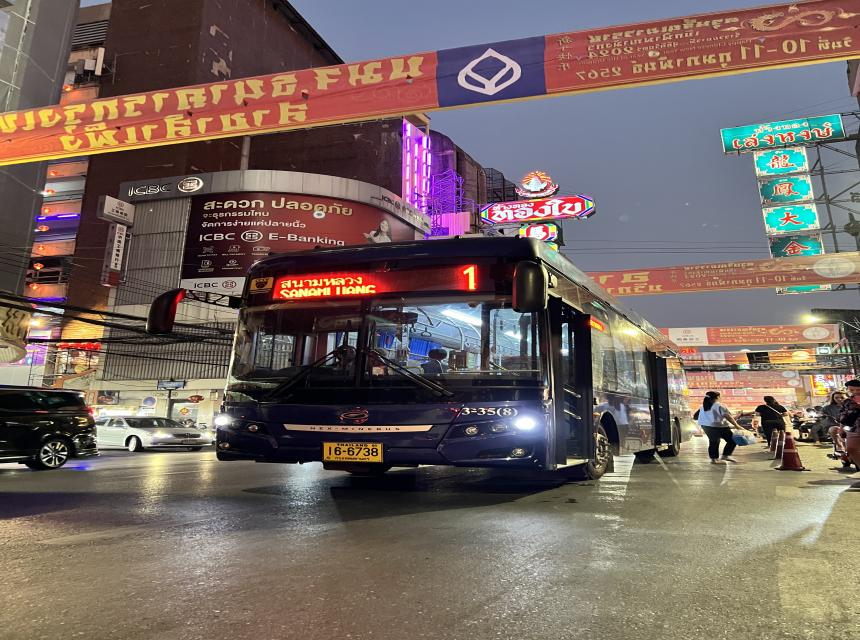Bus Line Number: (428, 257, 516, 298)
Bus Side Number: (448, 403, 530, 421)
Destination Sign: (264, 269, 392, 298)
TSB-Bus: (213, 237, 670, 487)
